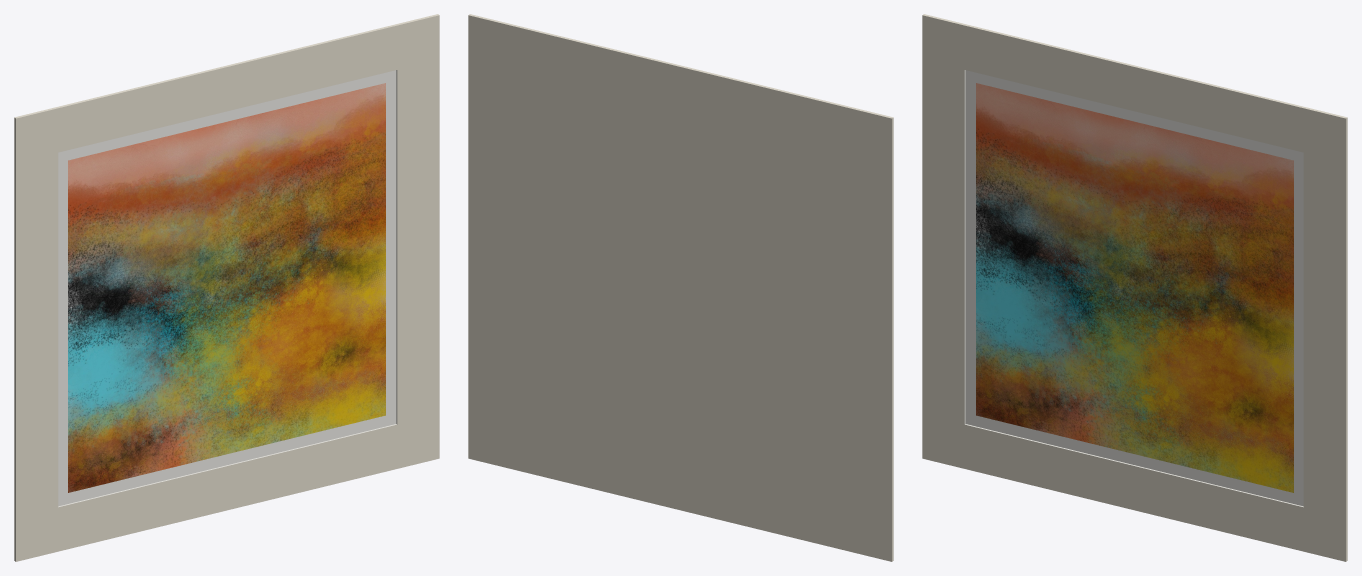
The model's file is va238_moyen_passe-partout.glb.
The picture shows the model from 3 angles, left to right: view 1: azimuth 30°, elevation 25°; view 2: azimuth 150°, elevation 25°; view 3: azimuth 330°, elevation 25°; orthographic projection.
Visible parts, largest first — view 1: va238_moyen_passe-partout; view 2: va238_moyen_passe-partout; view 3: va238_moyen_passe-partout.
Boxes of the visible parts, bbox=[...] form: va238_moyen_passe-partout: bbox=[14, 14, 439, 561]; va238_moyen_passe-partout: bbox=[468, 14, 893, 561]; va238_moyen_passe-partout: bbox=[922, 14, 1347, 561].
Bounding box in the file's own units: 0.8 × 0.8 × 0.0055.
Materials: 4 (1 with a texture image).
